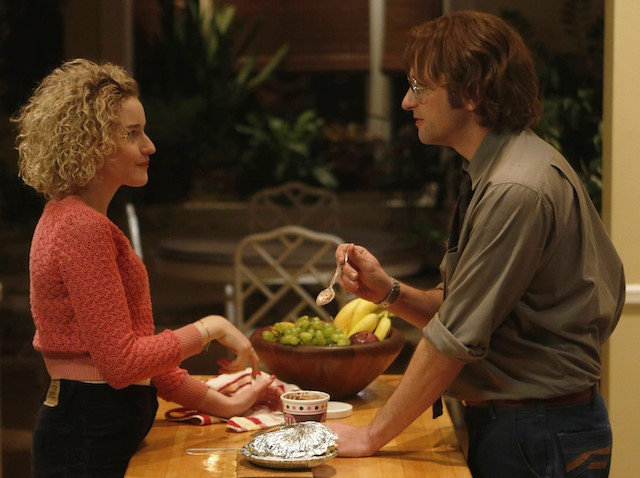face_no_mask: (13, 62, 155, 191), (402, 28, 503, 147)
